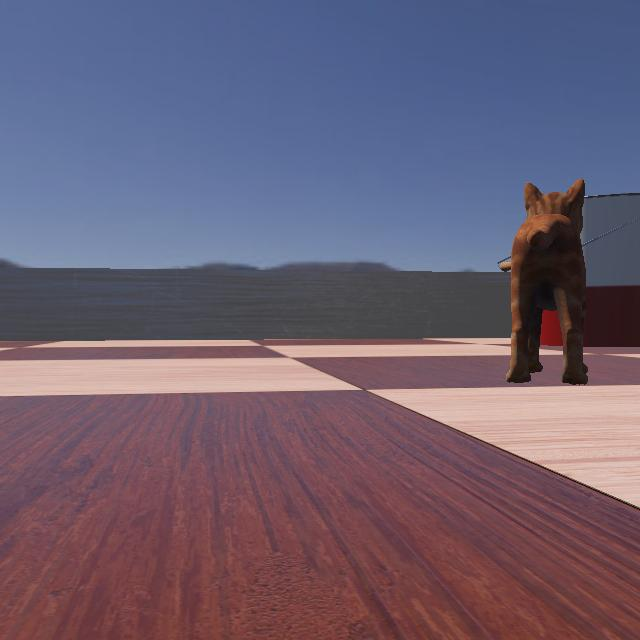cat: (444, 98, 640, 402), (444, 98, 640, 402)
paint-bucket: (481, 187, 639, 349)
